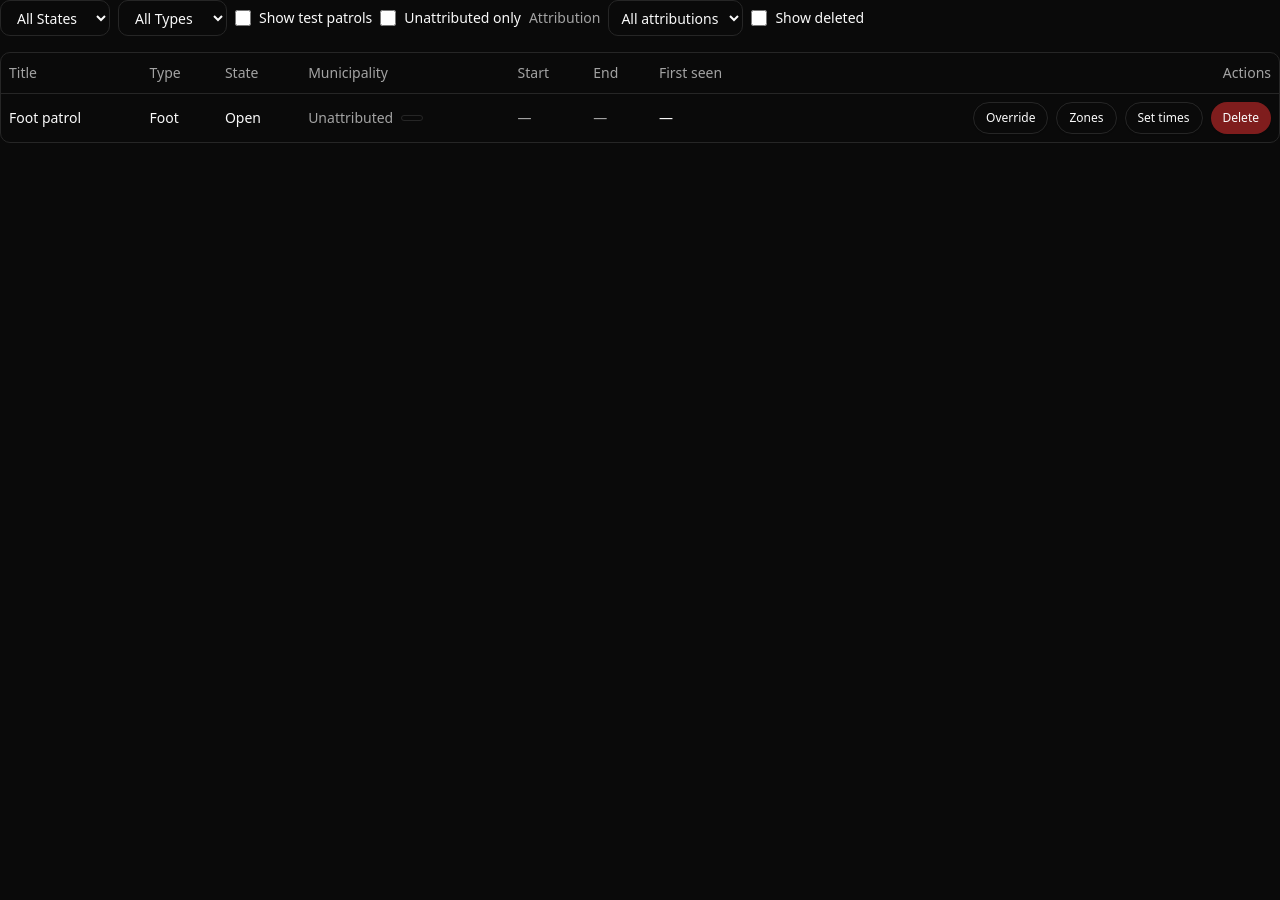
Test: PatrolsTable — zone coverage override › lists currently-covered zones with their provenance
Click the button with test id "zone-override-button-p1".
click(1087, 118)  # box [1056,102,1117,134]
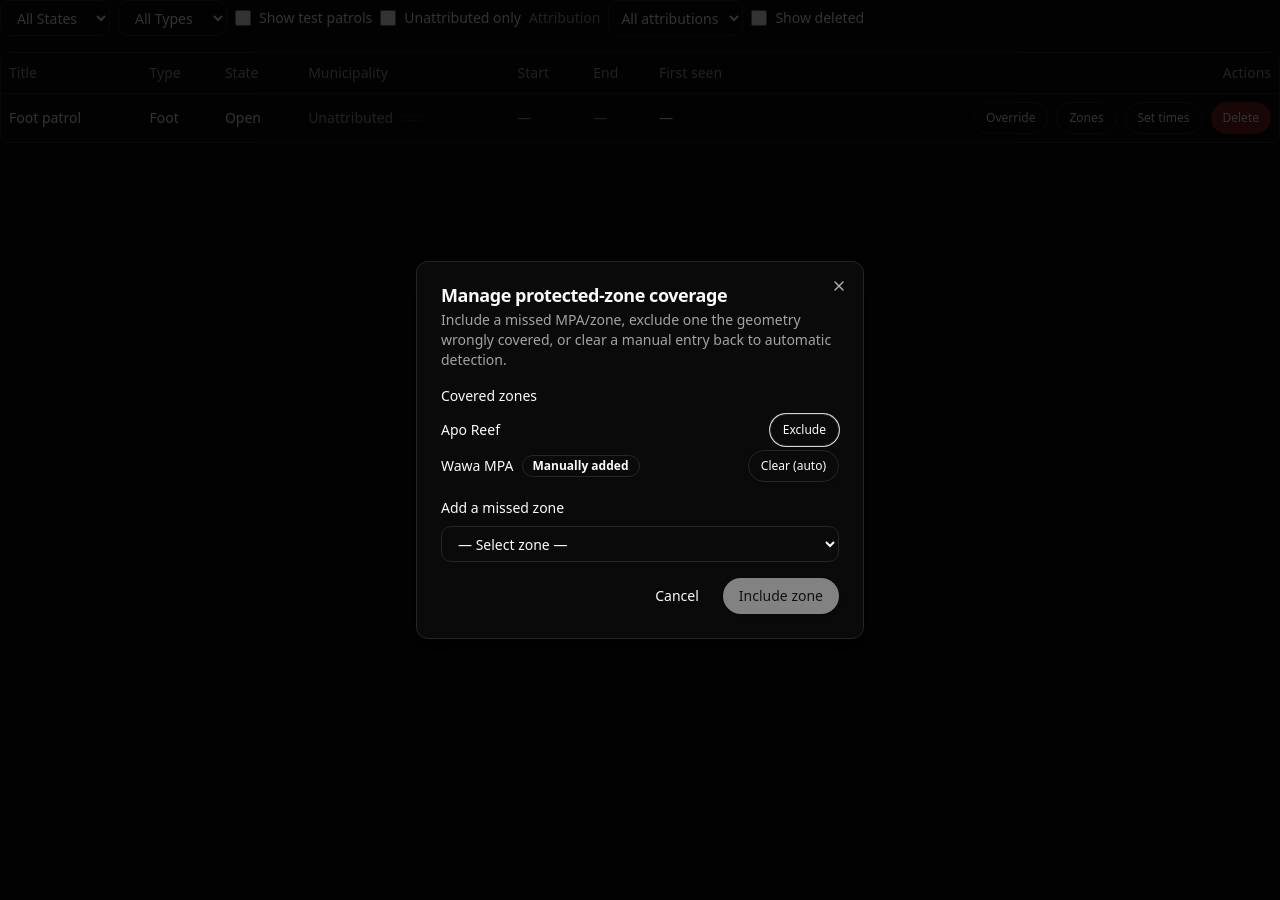
Expected: the list item with test id "covered-zone-row-z1" shows "Apo Reef", [441,420,500,439]
Expected: the list item with test id "covered-zone-row-z2" shows "Wawa MPA", [441,456,514,475]
Expected: the button with test id "exclude-zone-button-z1" is shown, [770,414,839,446]
